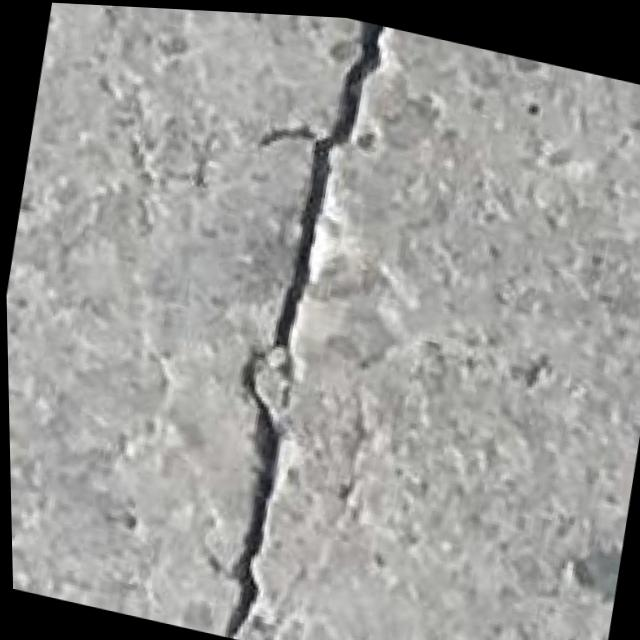Crack: (177, 7, 406, 640)
